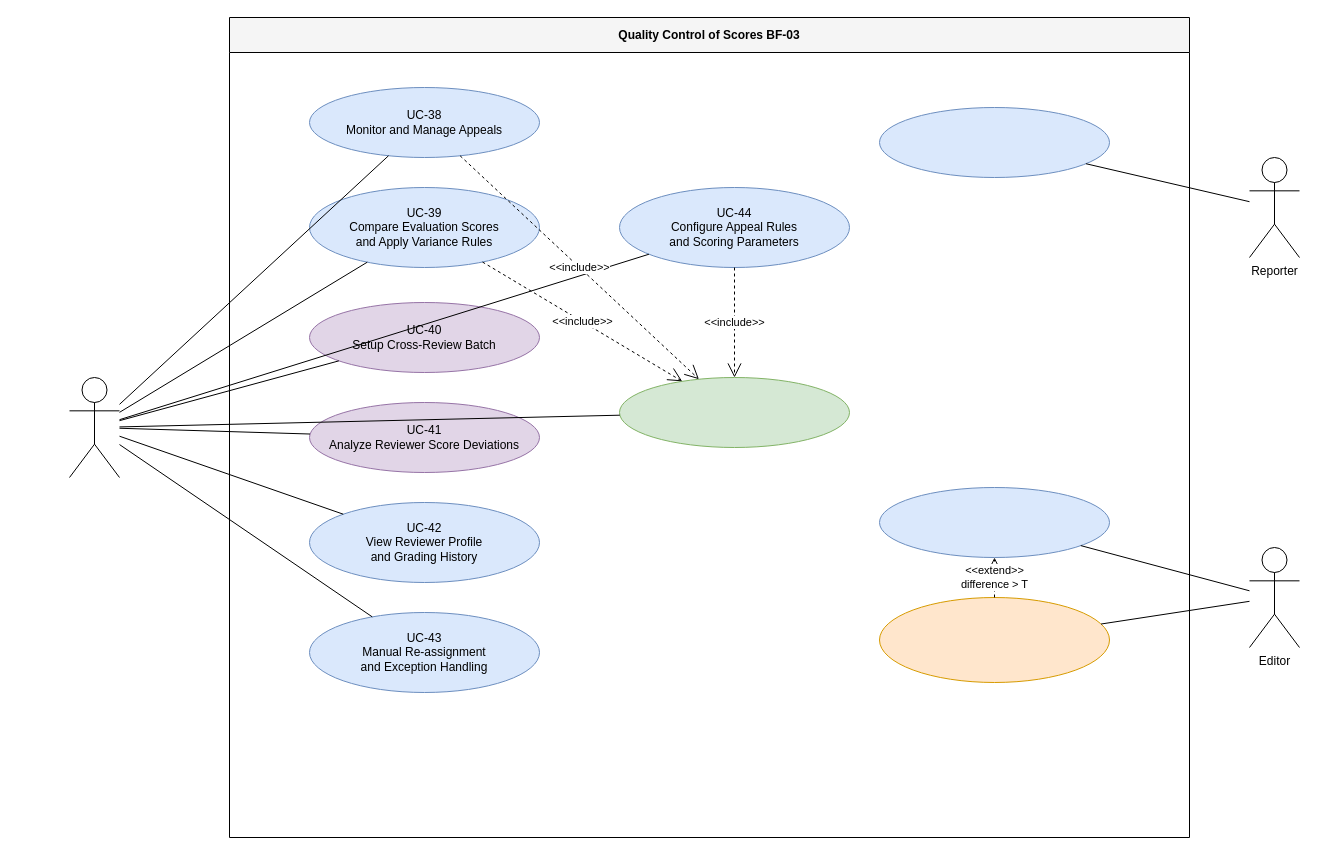
The diagram is 1317 pixels wide and 855 high, and some of its shapes have lost their labels. The shapes that lost their labels are listed below. From the top down, each one's centre as x and y in pixels, then its label:
point (994, 142): UC-35 Submit Quality Appeal
point (94, 427): Head of Editorial Department
point (734, 412): UC-45 Audit System and Grading Logs
point (994, 522): UC-36 Perform Blind Re-Evaluation
point (994, 639): UC-37 Perform Second Re-Evaluation and S2 Arbitration
